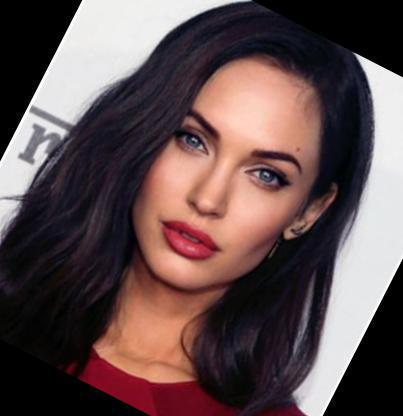Sober: (152, 67, 300, 277)
